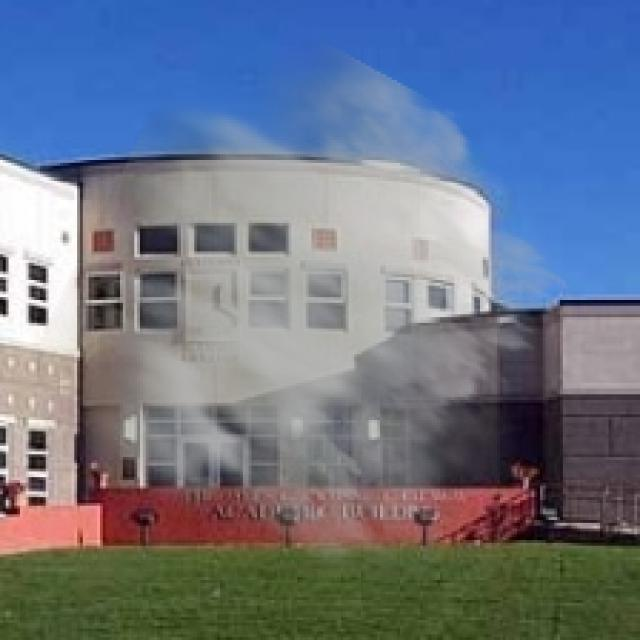Smoke: (6, 29, 572, 592)
